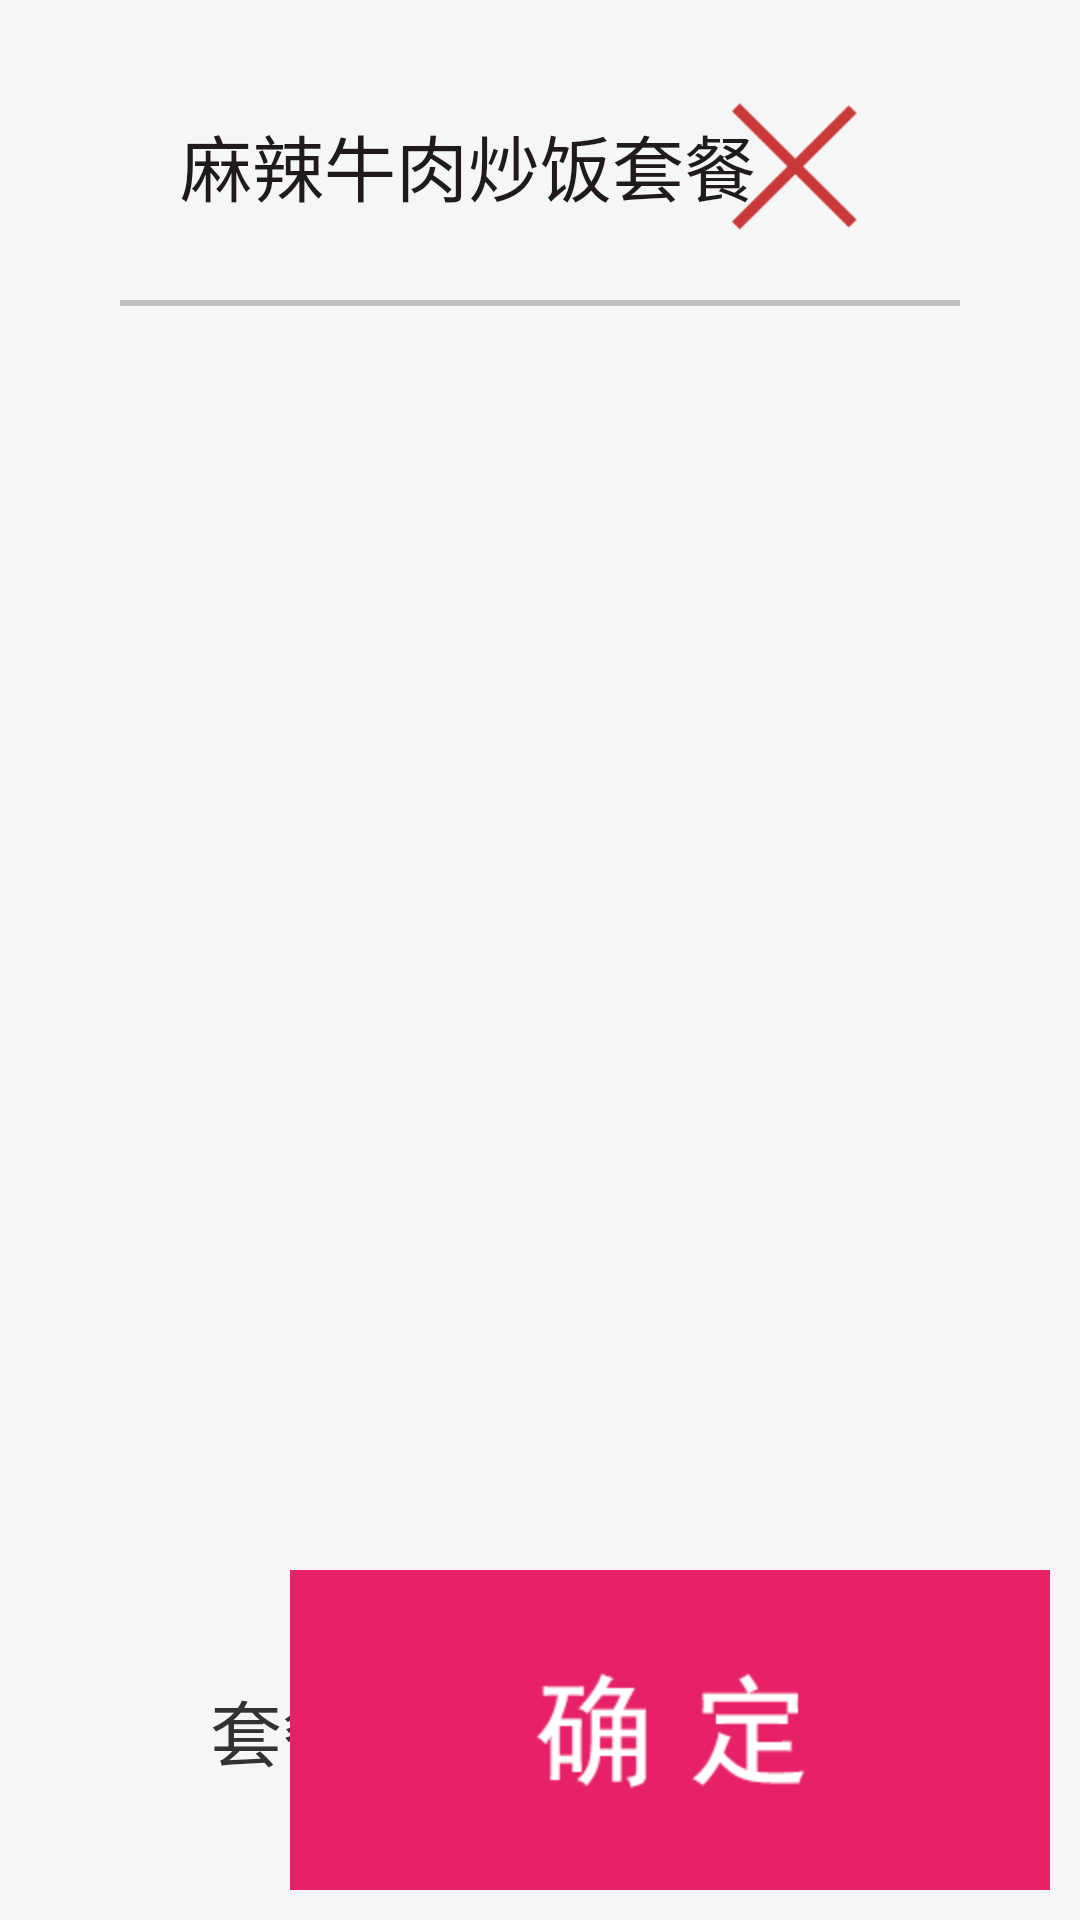

Named icons in this screenshot (1080*1920) and their bounding boxes, {"left": x1, "top": y1, "right": x2, "bottom": y2}:
choose property close: {"left": 690, "top": 103, "right": 857, "bottom": 230}
